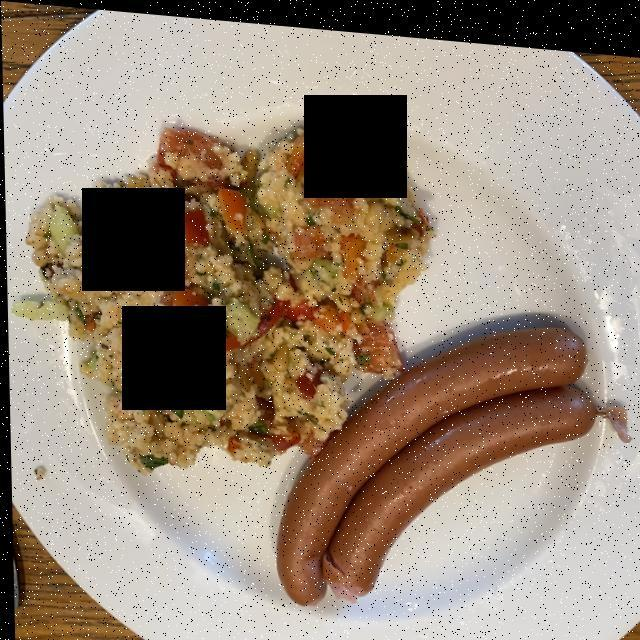sausage: (274, 316, 629, 595)
taboule-prepared-with-couscous: (31, 117, 416, 464)
